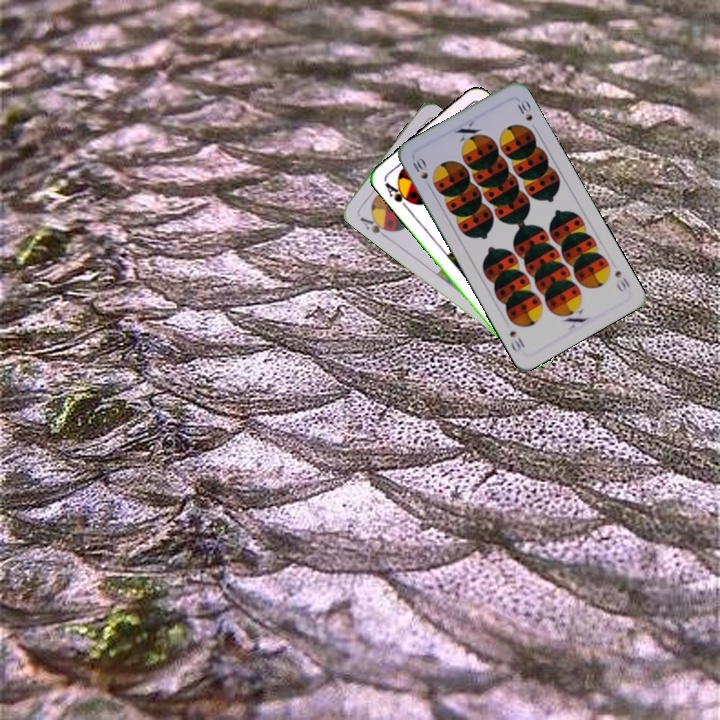S10: (408, 153, 434, 192), (611, 266, 633, 295)
SA: (381, 176, 416, 211), (356, 211, 393, 240)
